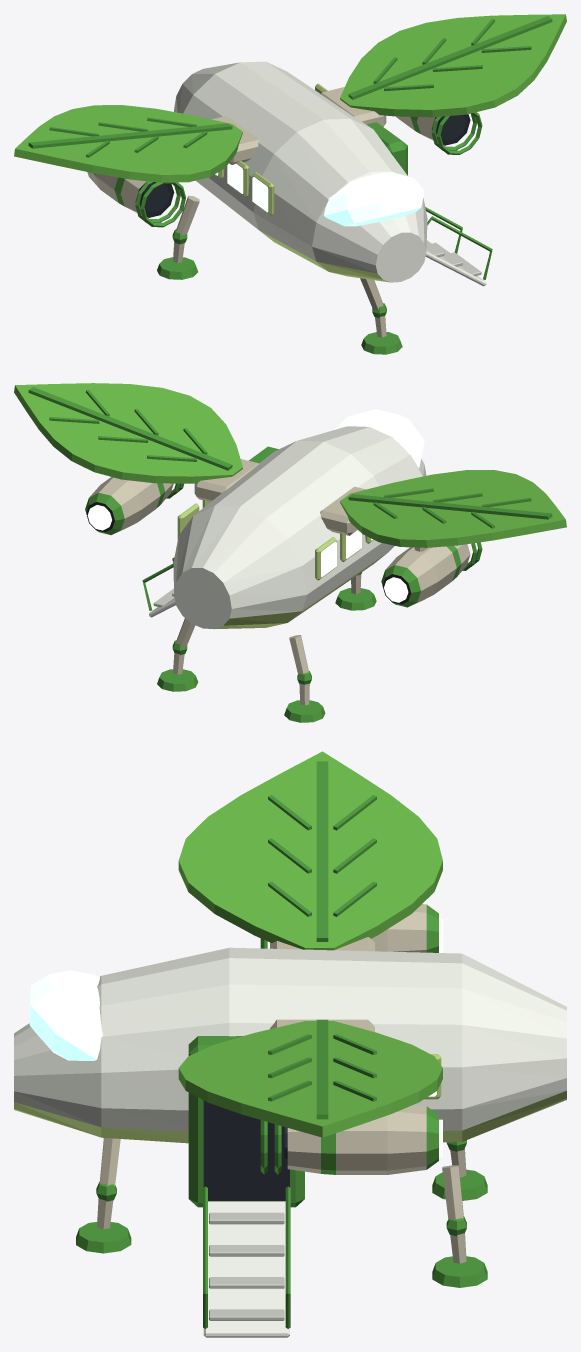
File: ver-p_offen.glb
3 renders of one model, top to bottom at view 1: azimuth 30°, elevation 25°; view 2: azimuth 150°, elevation 25°; view 3: azimuth 270°, elevation 25°, orthographic. The views are drawn at different scales.
Parts seen in each view (by area): view 1: kabine, blattpaneel_l, blattpaneel_r, cockpit, triebwerk_r, triebwerk_l, treppe, landebein_3, fenster, träger, landebein_1, türmodul; view 2: kabine, blattpaneel_l, blattpaneel_r, triebwerk_r, triebwerk_l, cockpit, träger, fenster, landebein_3, landebein_2, landebein_1, treppe; view 3: kabine, blattpaneel_r, blattpaneel_l, treppe, triebwerk_l, türöffnung, cockpit, landebein_2, landebein_1, türmodul, triebwerk_r, landebein_3 (+1 smaller).
Part boxes in pixels (bbox=[...]): kabine: bbox=[174, 61, 427, 282]; blattpaneel_l: bbox=[340, 14, 566, 117]; blattpaneel_r: bbox=[14, 105, 242, 182]; cockpit: bbox=[324, 172, 424, 226]; triebwerk_r: bbox=[87, 172, 185, 227]; triebwerk_l: bbox=[396, 112, 482, 154]; treppe: bbox=[425, 207, 492, 286]; landebein_3: bbox=[157, 195, 199, 279]; fenster: bbox=[215, 83, 327, 215]; träger: bbox=[211, 87, 386, 164]; landebein_1: bbox=[360, 278, 402, 354]; türmodul: bbox=[366, 122, 407, 175]; kabine: bbox=[173, 426, 426, 629]; blattpaneel_l: bbox=[14, 383, 242, 483]; blattpaneel_r: bbox=[340, 470, 566, 547]; triebwerk_r: bbox=[381, 542, 482, 607]; triebwerk_l: bbox=[85, 477, 183, 534]; cockpit: bbox=[334, 409, 424, 467]; träger: bbox=[194, 459, 365, 535]; fenster: bbox=[177, 499, 373, 580]; landebein_3: bbox=[284, 635, 325, 722]; landebein_2: bbox=[157, 618, 198, 691]; landebein_1: bbox=[335, 572, 376, 610]; treppe: bbox=[142, 557, 175, 617]; kabine: bbox=[14, 947, 566, 1143]; blattpaneel_r: bbox=[178, 751, 442, 950]; blattpaneel_l: bbox=[178, 1019, 442, 1137]; treppe: bbox=[203, 1186, 290, 1337]; triebwerk_l: bbox=[260, 1104, 442, 1174]; türöffnung: bbox=[203, 1100, 289, 1200]; cockpit: bbox=[29, 970, 102, 1060]; landebein_2: bbox=[432, 1165, 487, 1287]; landebein_1: bbox=[76, 1138, 131, 1253]; türmodul: bbox=[188, 1036, 304, 1207]; triebwerk_r: bbox=[260, 904, 442, 952]; landebein_3: bbox=[432, 1140, 487, 1200].
Size of the model in its own units: 0.1913 by 0.0701 by 0.1188.
